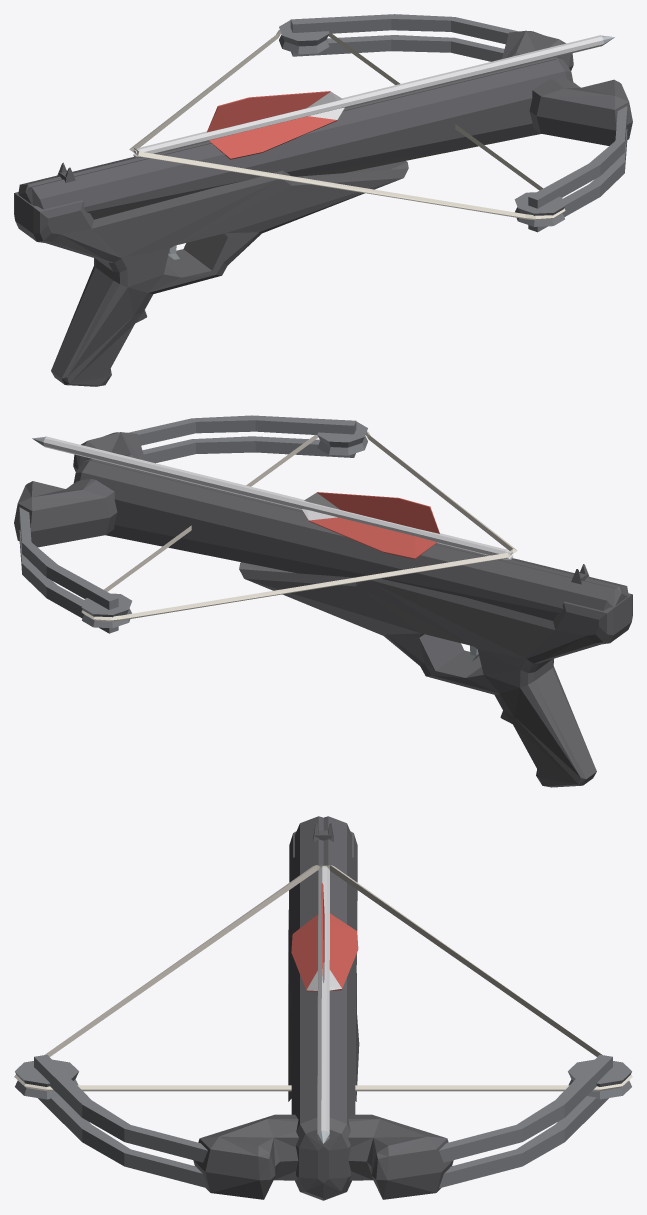
The model's file is hand_crossbow.glb.
3 renders of one model, top to bottom at view 1: azimuth 30°, elevation 25°; view 2: azimuth 150°, elevation 25°; view 3: azimuth 270°, elevation 25°, orthographic. The views are drawn at different scales.
Parts seen in each view (by area): view 1: hand_crossbow, crossbow_dart; view 2: hand_crossbow, crossbow_dart; view 3: hand_crossbow, crossbow_dart.
Boxes of the visible parts, <box> form: hand_crossbow: <box>14,14,632,386</box>; crossbow_dart: <box>133,35,614,159</box>; hand_crossbow: <box>14,415,632,787</box>; crossbow_dart: <box>32,436,513,559</box>; hand_crossbow: <box>14,816,632,1200</box>; crossbow_dart: <box>291,866,358,1143</box>.
Bounding box in the file's own units: 0.9452 × 0.3789 × 0.7309.
